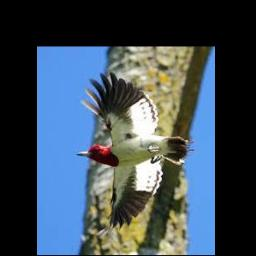Woodpecker: (77, 73, 193, 235)
